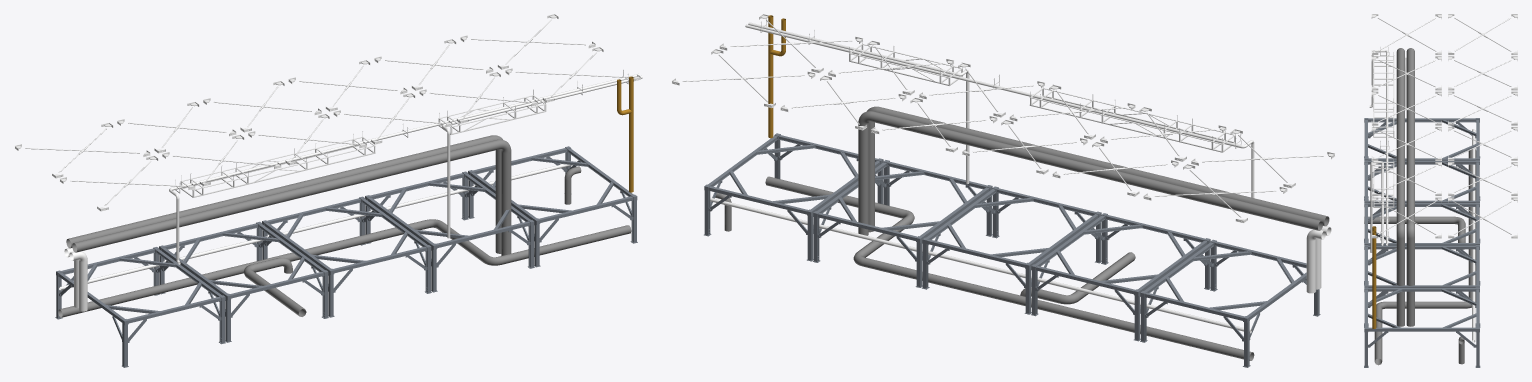
The picture shows the model from 3 angles, left to right: view 1: azimuth 30°, elevation 25°; view 2: azimuth 150°, elevation 25°; view 3: azimuth 270°, elevation 25°; orthographic projection. The views are drawn at different scales.
Visible parts, largest first — view 1: SM_H_Building_FutureTech_PipeHouse_01_InterWall_01B; view 2: SM_H_Building_FutureTech_PipeHouse_01_InterWall_01B; view 3: SM_H_Building_FutureTech_PipeHouse_01_InterWall_01B.
Boxes of the visible parts, x1,y1,x2,y2 form: SM_H_Building_FutureTech_PipeHouse_01_InterWall_01B: (14, 14, 642, 367); SM_H_Building_FutureTech_PipeHouse_01_InterWall_01B: (671, 14, 1335, 367); SM_H_Building_FutureTech_PipeHouse_01_InterWall_01B: (1364, 14, 1517, 367).
Bounding box in the file's own units: 601 × 2126 × 599.
